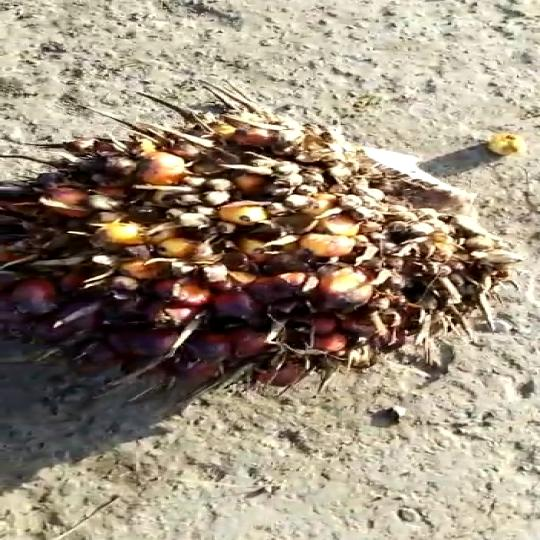masak: (0, 110, 515, 386)
